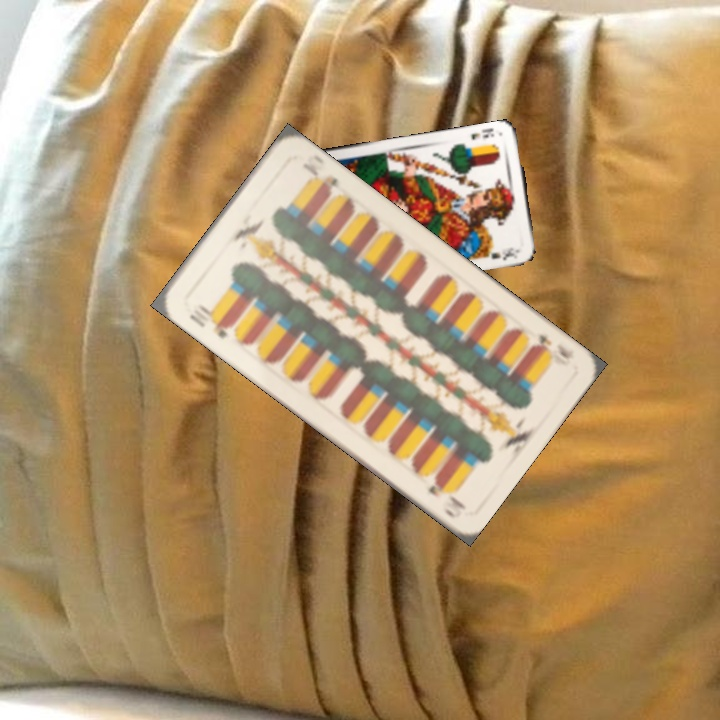E10: (185, 300, 234, 341), (527, 330, 577, 369)
EK: (467, 124, 497, 142)
